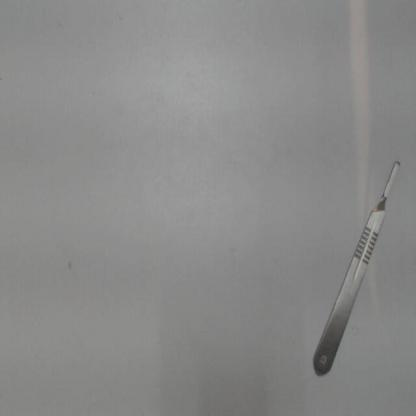No.4 BP Handle: (305, 143, 408, 387)
